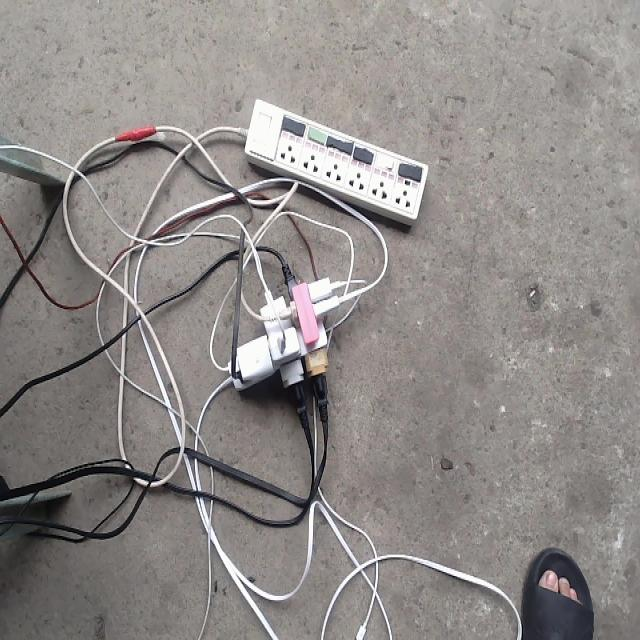-: (220, 272, 349, 401)
